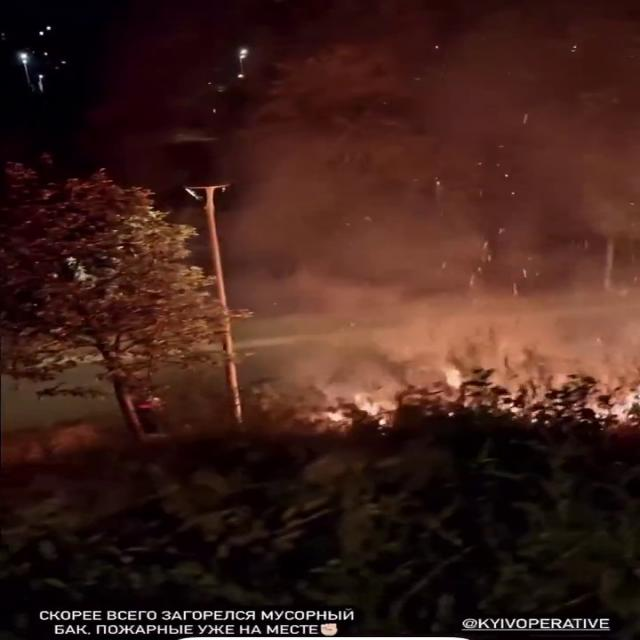Fire: (292, 371, 427, 431)
